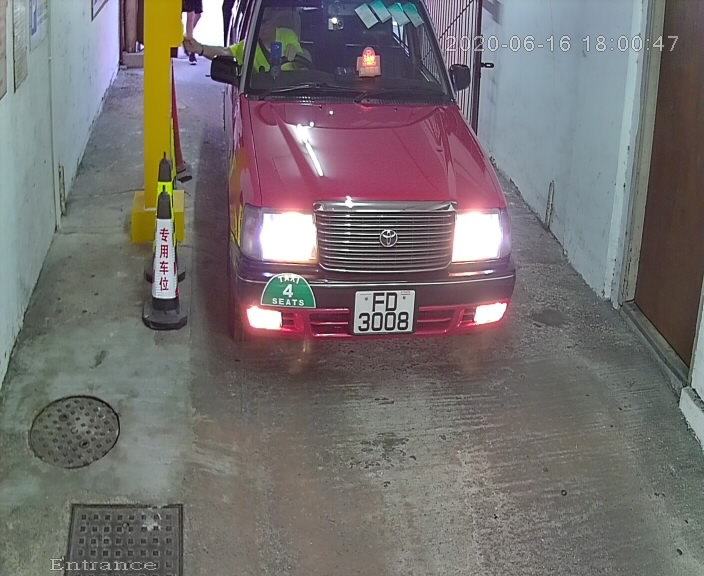taxi: (196, 2, 534, 405)
taxi_mark: (256, 266, 320, 319)
